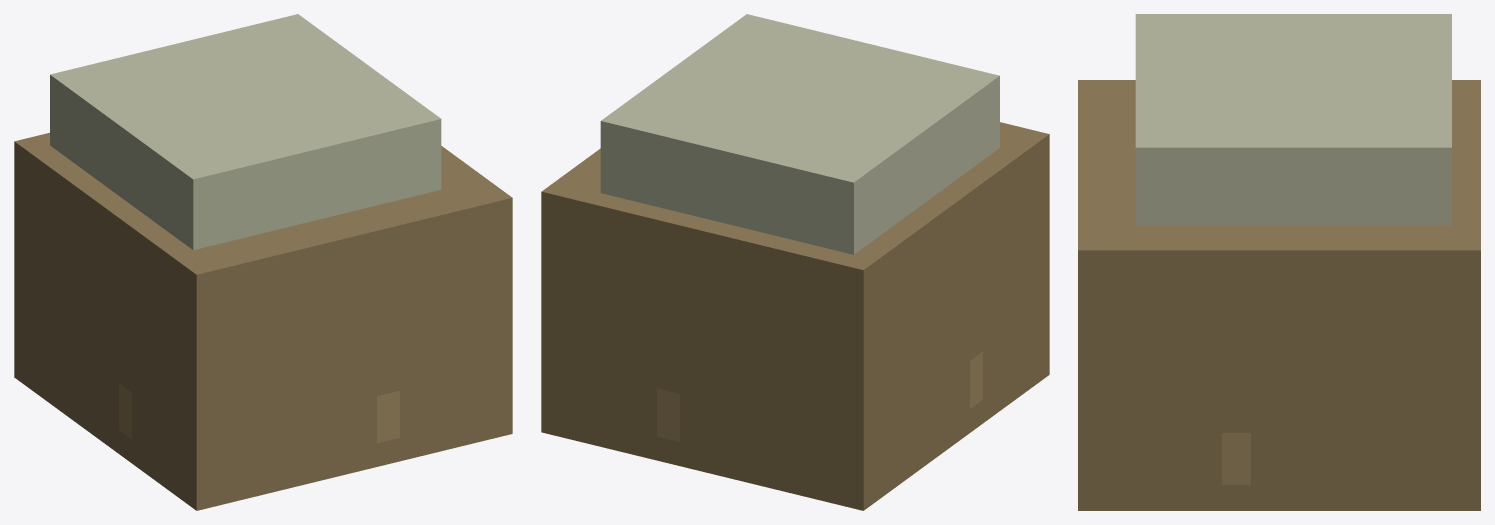
File: laundry_basket.gltf
The picture shows the model from 3 angles, left to right: view 1: azimuth 30°, elevation 25°; view 2: azimuth 150°, elevation 25°; view 3: azimuth 270°, elevation 25°; orthographic projection. The views are drawn at different scales.
Parts seen in each view (by area): view 1: basket, cloth; view 2: basket, cloth; view 3: basket, cloth.
Boxes of the visible parts, <box> form: basket: <box>14,132,512,510</box>; cloth: <box>50,14,441,250</box>; basket: <box>541,122,1049,510</box>; cloth: <box>600,14,999,254</box>; basket: <box>1078,80,1480,510</box>; cloth: <box>1135,14,1451,225</box>.
Bounding box in the file's own units: 0.875 × 0.8125 × 0.875.
Materials: 2 (2 with a texture image).
